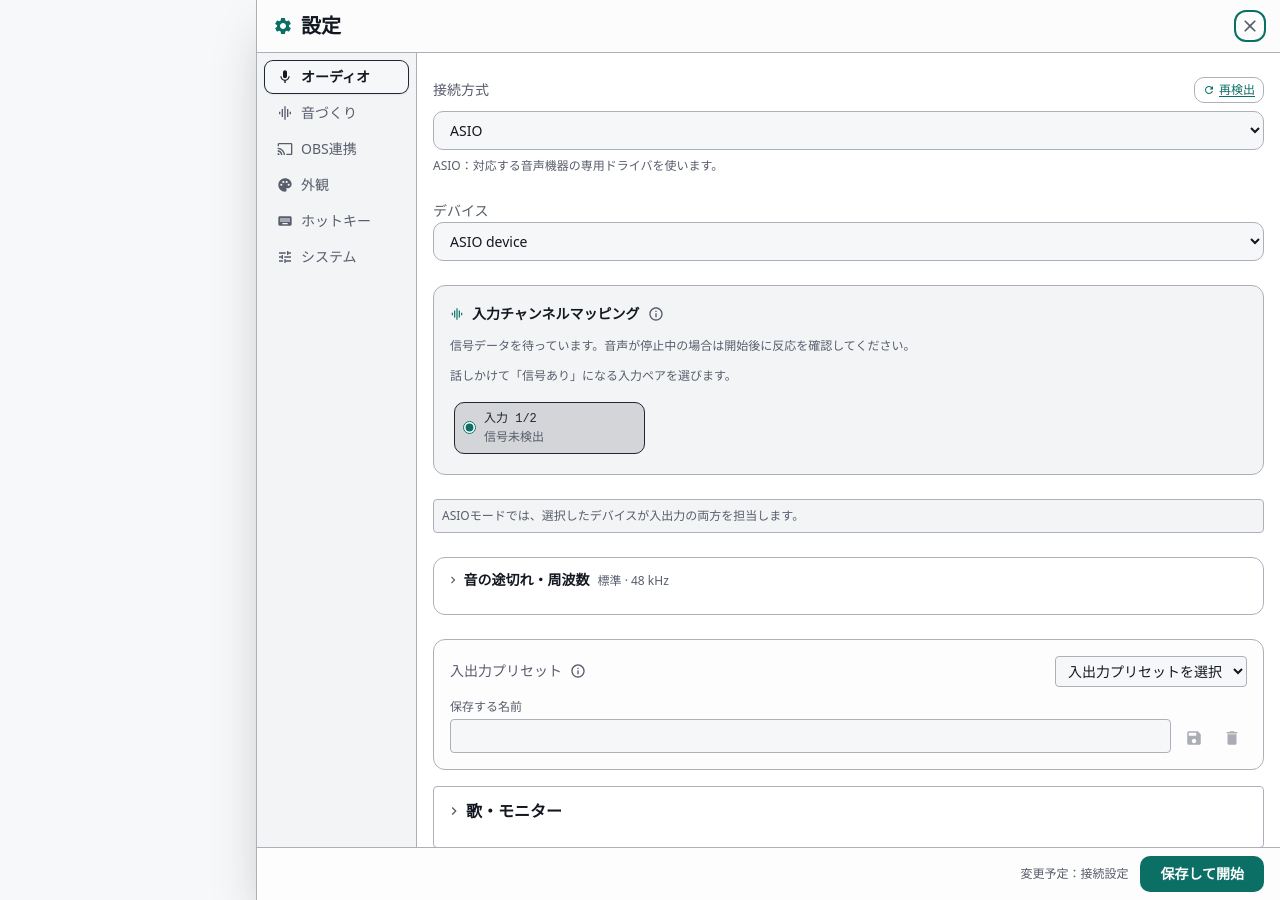
Test: 接続設定と即時反映の音づくりを分け、操作名を公開する
The width and height of the screenshot is (1280, 900).
Expected: the switch labelled "ノイズ低減" is not shown
Press the mouse on the tab "音づくり" at (336, 113), box [265,97,408,129]
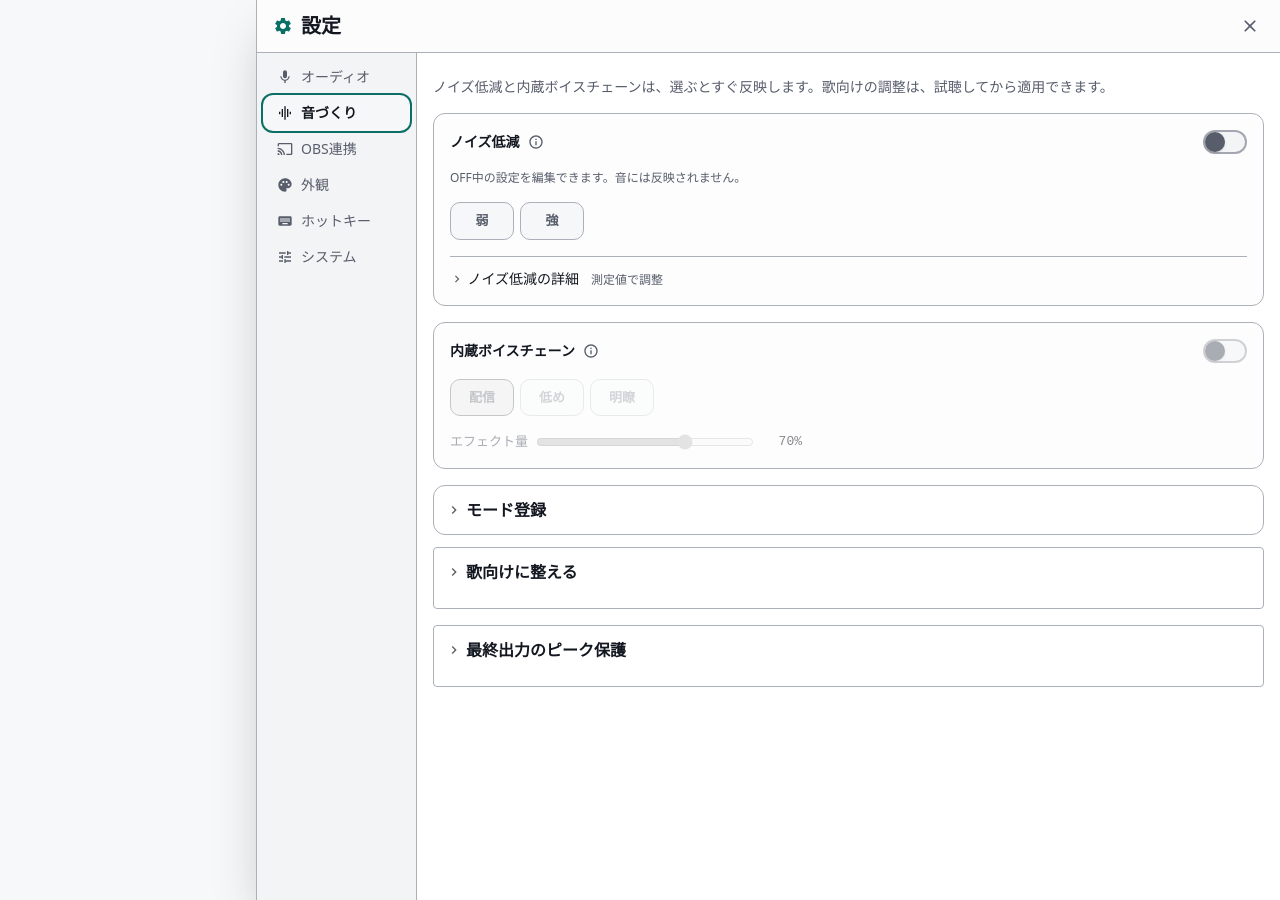
Expected: the switch named "ノイズ低減" is shown, [1203,130,1247,154]
Expected: the switch named "内蔵ボイスチェーン" is shown, [1203,338,1247,362]
Expected: the button "保存して開始" is gone
